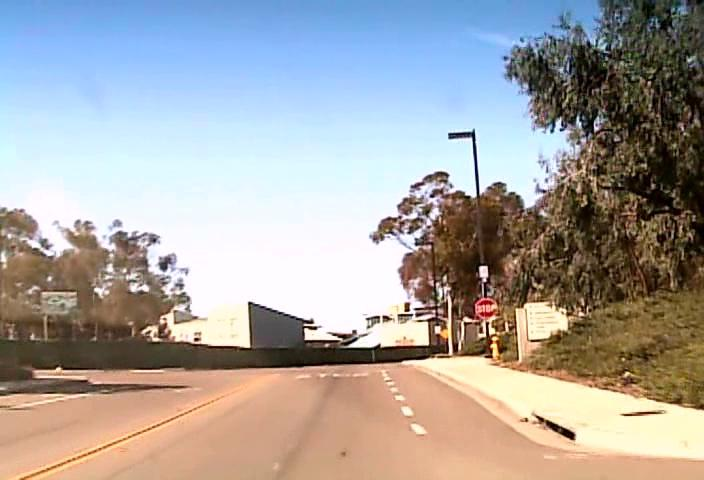stop: (474, 297, 497, 319)
